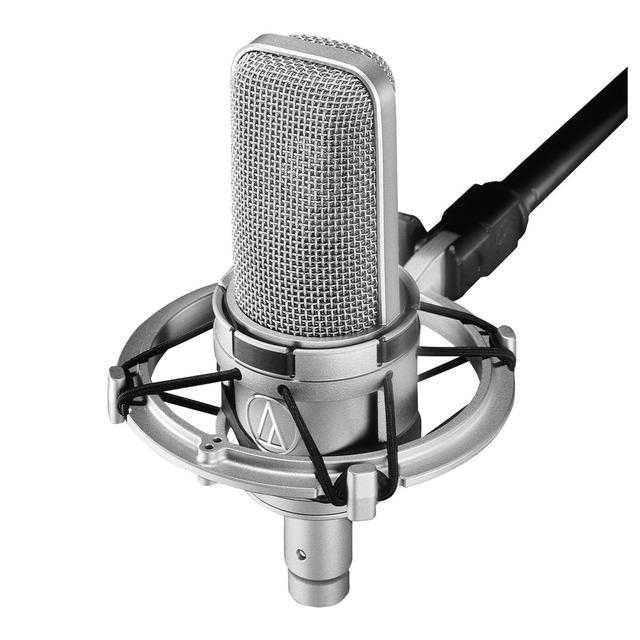microphone: (222, 37, 409, 463)
